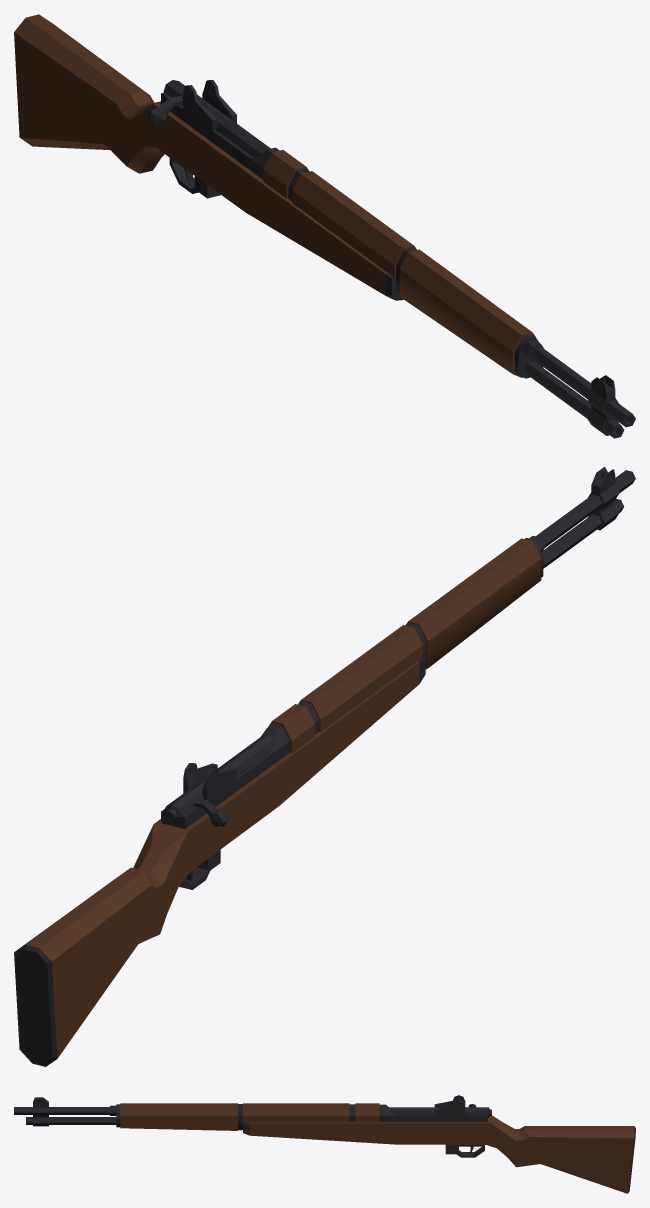
File: LPWarPack_BoltRifle.fbx
3 renders of one model, top to bottom at view 1: azimuth 30°, elevation 25°; view 2: azimuth 150°, elevation 25°; view 3: azimuth 270°, elevation 25°, orthographic. The views are drawn at different scales.
Visible parts, largest first — view 1: BoltRifle; view 2: BoltRifle; view 3: BoltRifle.
Part boxes in pixels (x1,y1,x2,y2): BoltRifle: (14, 14, 635, 438); BoltRifle: (14, 467, 635, 1066); BoltRifle: (14, 1095, 635, 1193).
Size of the model in its own units: 6.27 by 18.6 by 112.
